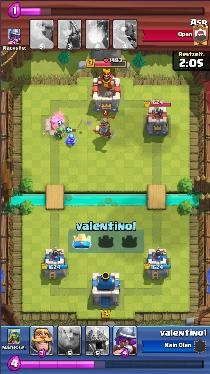ally_spear_goblin: (66, 134, 76, 146), (56, 127, 65, 138)
enemy_prince: (94, 117, 112, 137)
